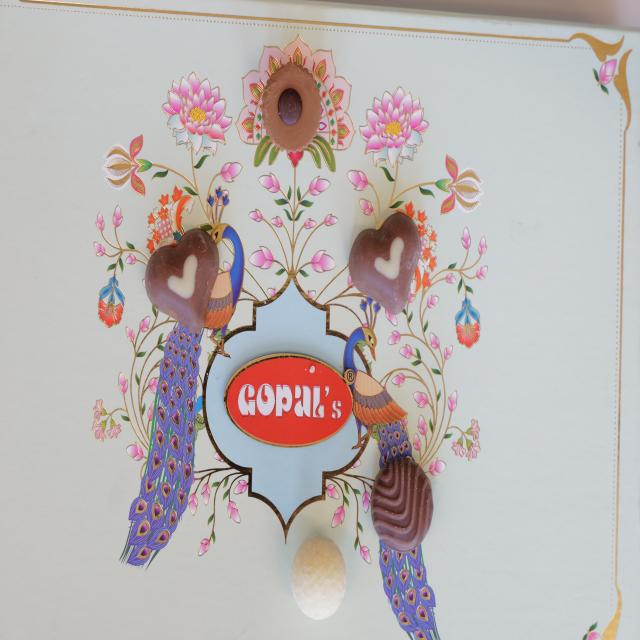Comtesse: (291, 536, 346, 622)
Noblesse: (261, 61, 322, 152)
Noir_authentique: (371, 458, 434, 552)
Passion_au_lait: (145, 229, 219, 333), (348, 212, 421, 313)
